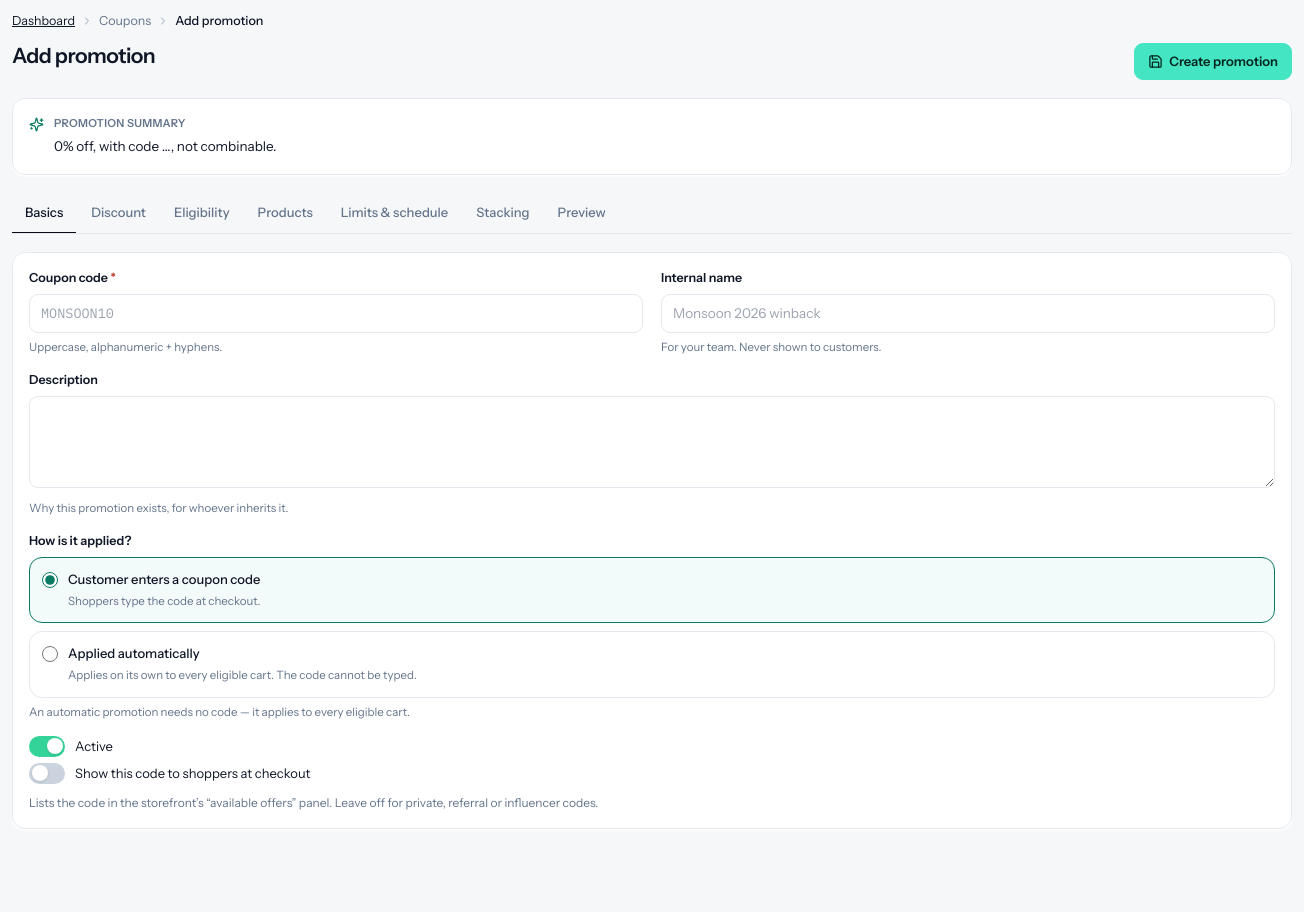
Test case: CouponEditor UX - Product Scope & Targeting › renders 'All products' scope by default for a new coupon
The image size is (1304, 912).
Note: Switch to Products tab
Click the button "Products".
click(285, 213)  # box [245,193,326,234]
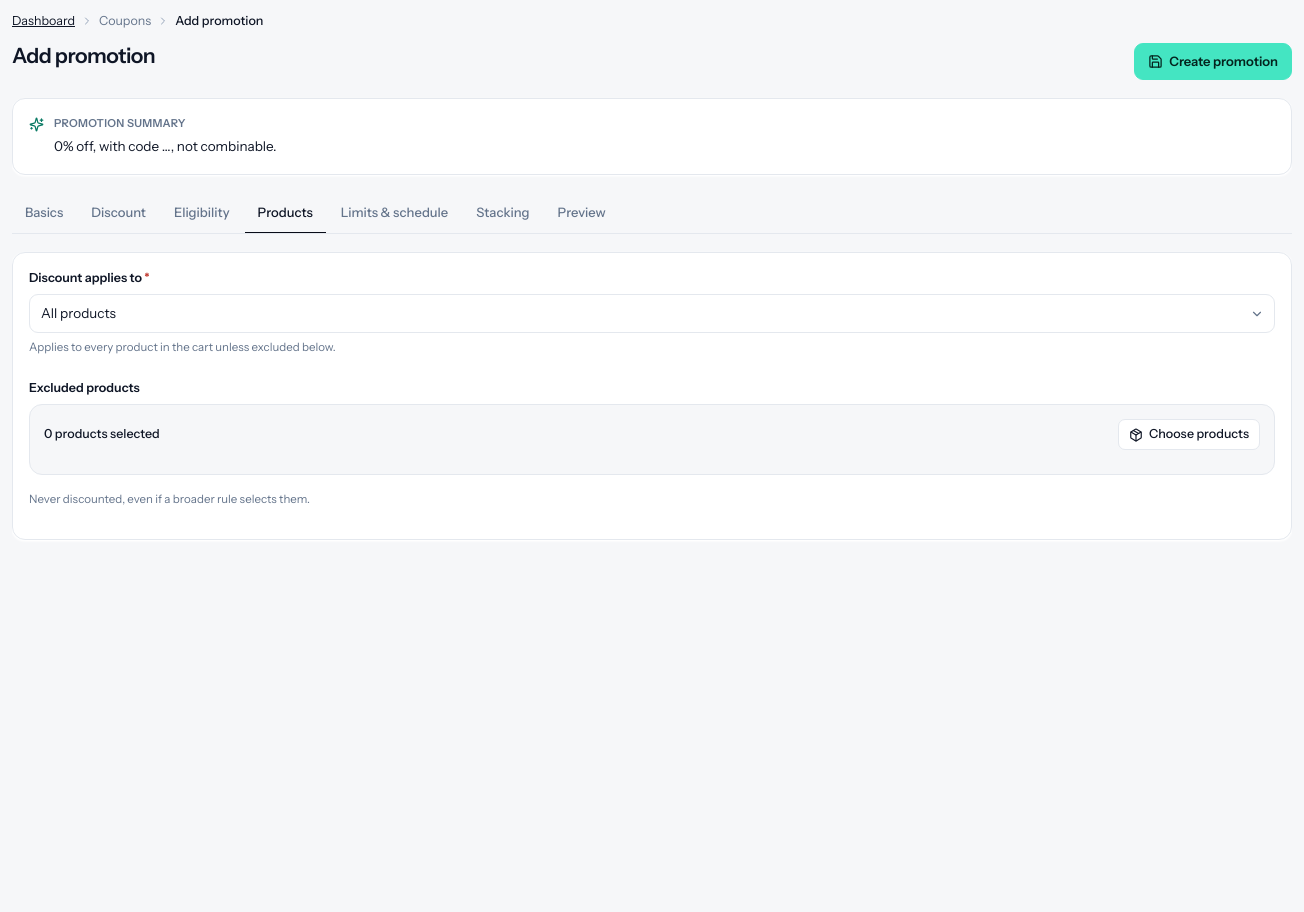
Result: the dropdown labelled "Discount applies to *" shows "All products" at [29,294,1275,333]
Result: the text "Applies to every product in the cart unless excluded below." is shown at [29,340,336,354]
Result: the text "Excluded products" is shown at [29,380,140,395]
